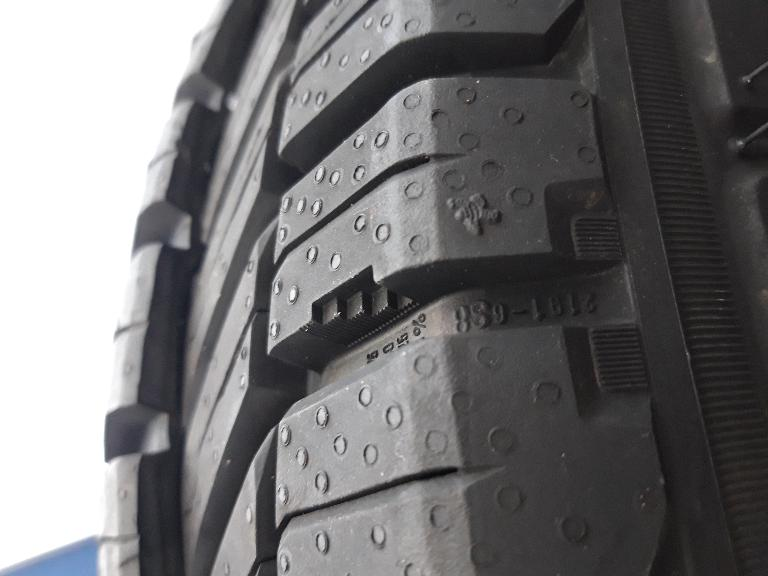temoin:100: (293, 261, 426, 352)
